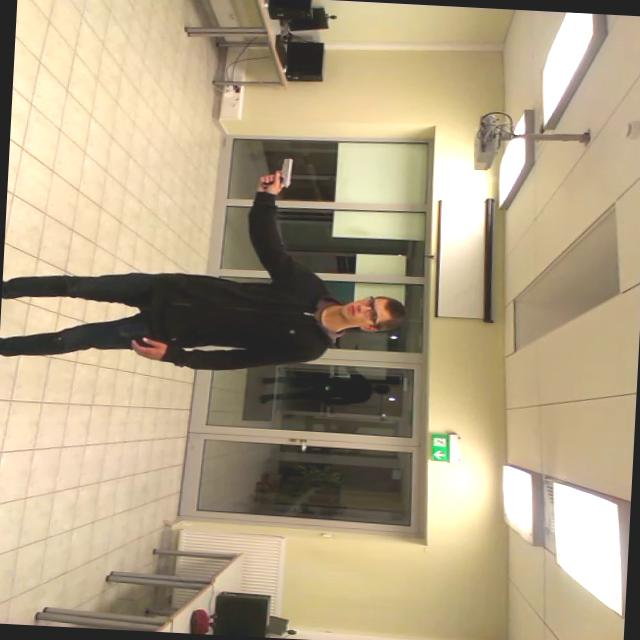handgun: (256, 155, 304, 195)
